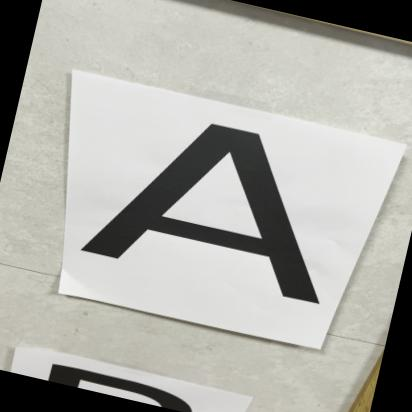seat: (55, 84, 376, 342)
